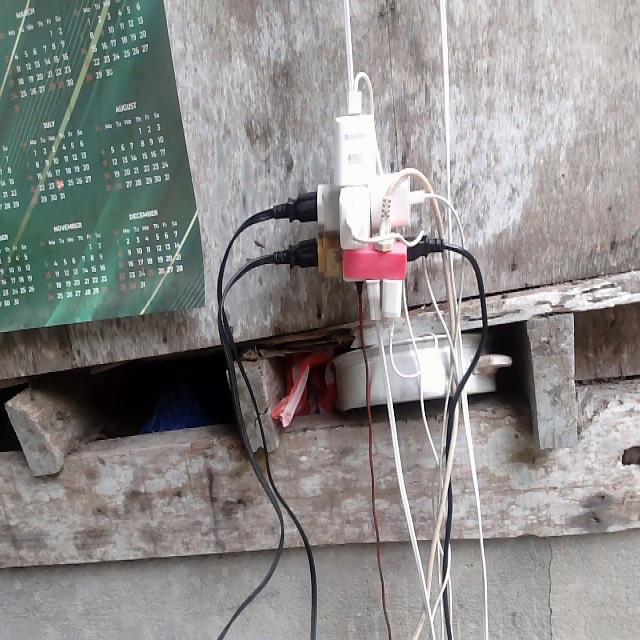-: (270, 60, 479, 353)
